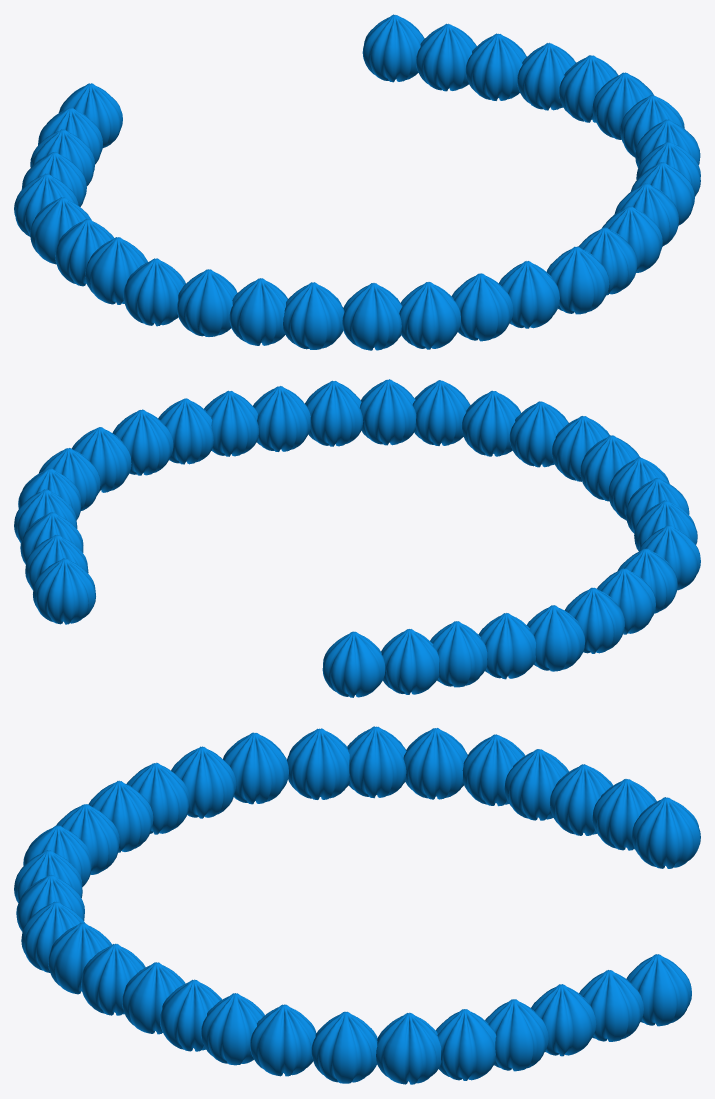
File: BottomDecoration.glb
3 renders of one model, top to bottom at view 1: azimuth 30°, elevation 25°; view 2: azimuth 150°, elevation 25°; view 3: azimuth 270°, elevation 25°, orthographic. The views are drawn at different scales.
Visible parts, largest first — view 1: Sphere.001; view 2: Sphere.001; view 3: Sphere.001.
Boxes of the visible parts, left/top/right/bottom form: Sphere.001: left=14, top=14, right=700, bottom=350; Sphere.001: left=14, top=379, right=700, bottom=697; Sphere.001: left=14, top=726, right=700, bottom=1084.
Size of the model in its own units: 2.51 by 0.2562 by 2.31.
